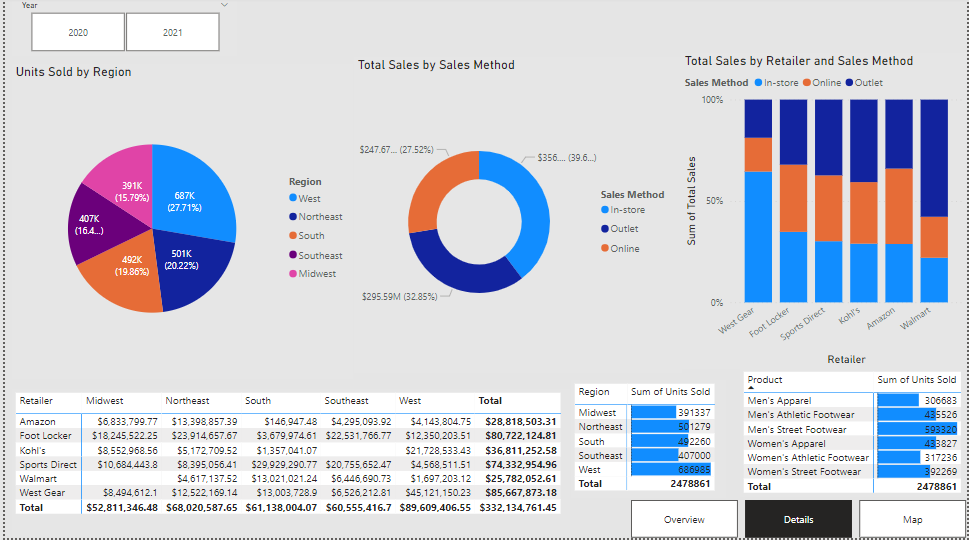

What the dashboard file says about the page in this screenshot:
{"tool":"powerbi","page":{"name":"Details","canvas":[1280,720],"ordinal":1},"visuals":[{"type":"pivotTable","fields":{"Rows":["Data Sales Adidas.Region"],"Values":["Sum(Data Sales Adidas.Units Sold)"]},"box":[752.9,509.2,206.5,156.9],"z":0},{"type":"pivotTable","fields":{"Values":["Sum(Data Sales Adidas.Operating Profit)"],"Rows":["Data Sales Adidas.Retailer"],"Columns":["Data Sales Adidas.Region"]},"box":[9.7,522.2,743.1,197.2],"z":1000},{"type":"pieChart","title":"Units Sold by Region","fields":{"Y":["Sum(Data Sales Adidas.Units Sold)"],"Category":["Data Sales Adidas.Region"]},"box":[9.7,88.9,454.2,419.4],"z":2000},{"type":"donutChart","title":"Total Sales by Sales Method","fields":{"Category":["Data Sales Adidas.Sales Method"],"Y":["Sum(Data Sales Adidas.Total Sales)"]},"box":[463.8,79.8,436.3,419.8],"z":3000},{"type":"pivotTable","fields":{"Rows":["Data Sales Adidas.Product"],"Values":["Sum(Data Sales Adidas.Units Sold)"]},"box":[978.6,494.1,301.4,172],"z":4000},{"type":"pageNavigator","box":[833.3,669.4,447.2,50],"z":5000},{"type":"hundredPercentStackedColumnChart","title":"Total Sales by Retailer and Sales Method","fields":{"Category":["Data Sales Adidas.Retailer"],"Series":["Data Sales Adidas.Sales Method"],"Y":["Sum(Data Sales Adidas.Total Sales)"]},"box":[900.1,74.3,379.9,419.8],"z":6000},{"type":"slicer","fields":{"Values":["Data Sales Adidas.Year.Variation.Date Hierarchy.Year"]},"box":[9.7,0,300,79.2],"z":7000},{"type":"image","box":[580.3,0,91.8,79.9],"z":8000}]}

Visuals, with their boxes in screenshot pixels (x1, y1, x2, y2), scaled from the page's 1280x720 canvas onto the 969x540 screenshot:
pivotTable - Data Sales Adidas.Region x Sum(Data Sales Adidas.Units Sold): BBox(570, 382, 726, 500)
pivotTable - Sum(Data Sales Adidas.Operating Profit) x Data Sales Adidas.Retailer: BBox(7, 392, 570, 539)
"Units Sold by Region" pieChart: BBox(7, 67, 351, 381)
"Total Sales by Sales Method" donutChart: BBox(351, 60, 681, 375)
pivotTable - Data Sales Adidas.Product x Sum(Data Sales Adidas.Units Sold): BBox(741, 371, 968, 500)
pageNavigator: BBox(631, 502, 968, 539)
"Total Sales by Retailer and Sales Method" hundredPercentStackedColumnChart: BBox(681, 56, 968, 371)
slicer - Data Sales Adidas.Year.Variation.Date Hierarchy.Year: BBox(7, 0, 234, 59)
image: BBox(439, 0, 509, 60)
